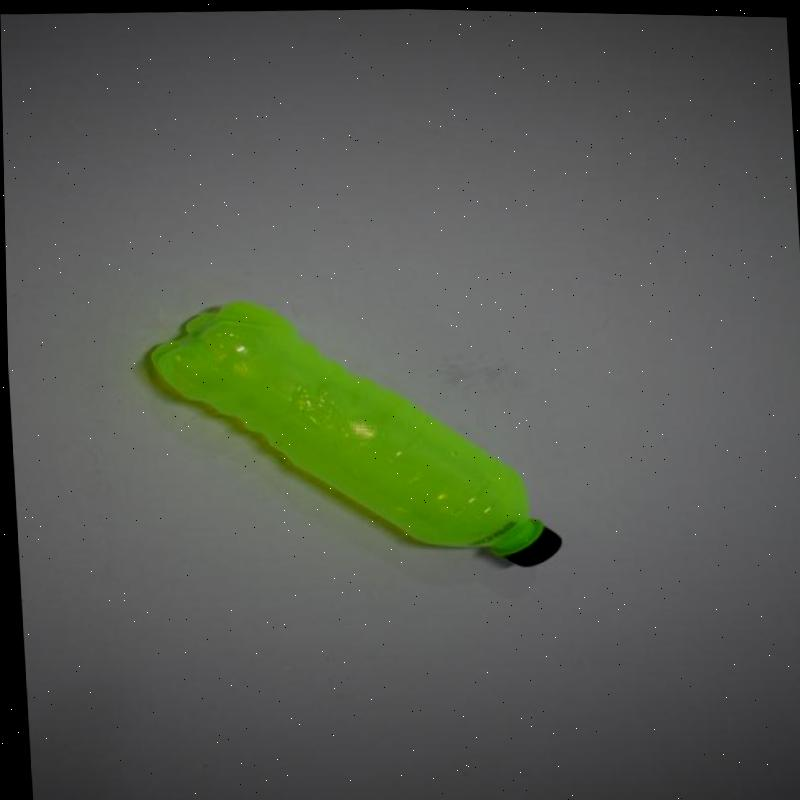botella: (143, 287, 563, 579)
